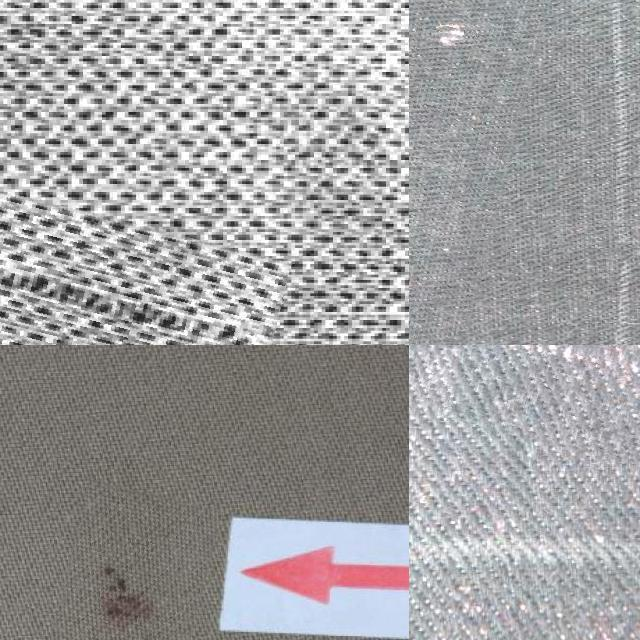Hole: (50, 484, 210, 640)
Thread_other: (409, 0, 548, 345), (0, 194, 284, 345), (409, 345, 640, 454)
